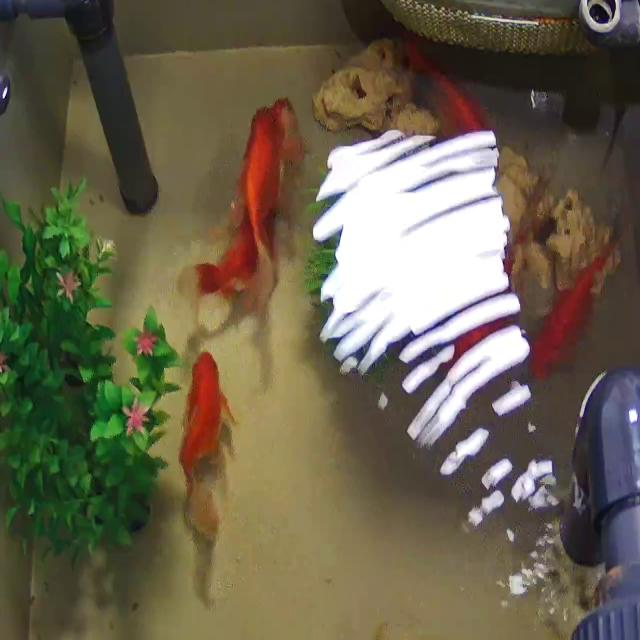fish: (242, 100, 303, 330), (526, 238, 622, 382), (177, 350, 236, 541), (402, 34, 492, 134), (168, 233, 239, 331)
